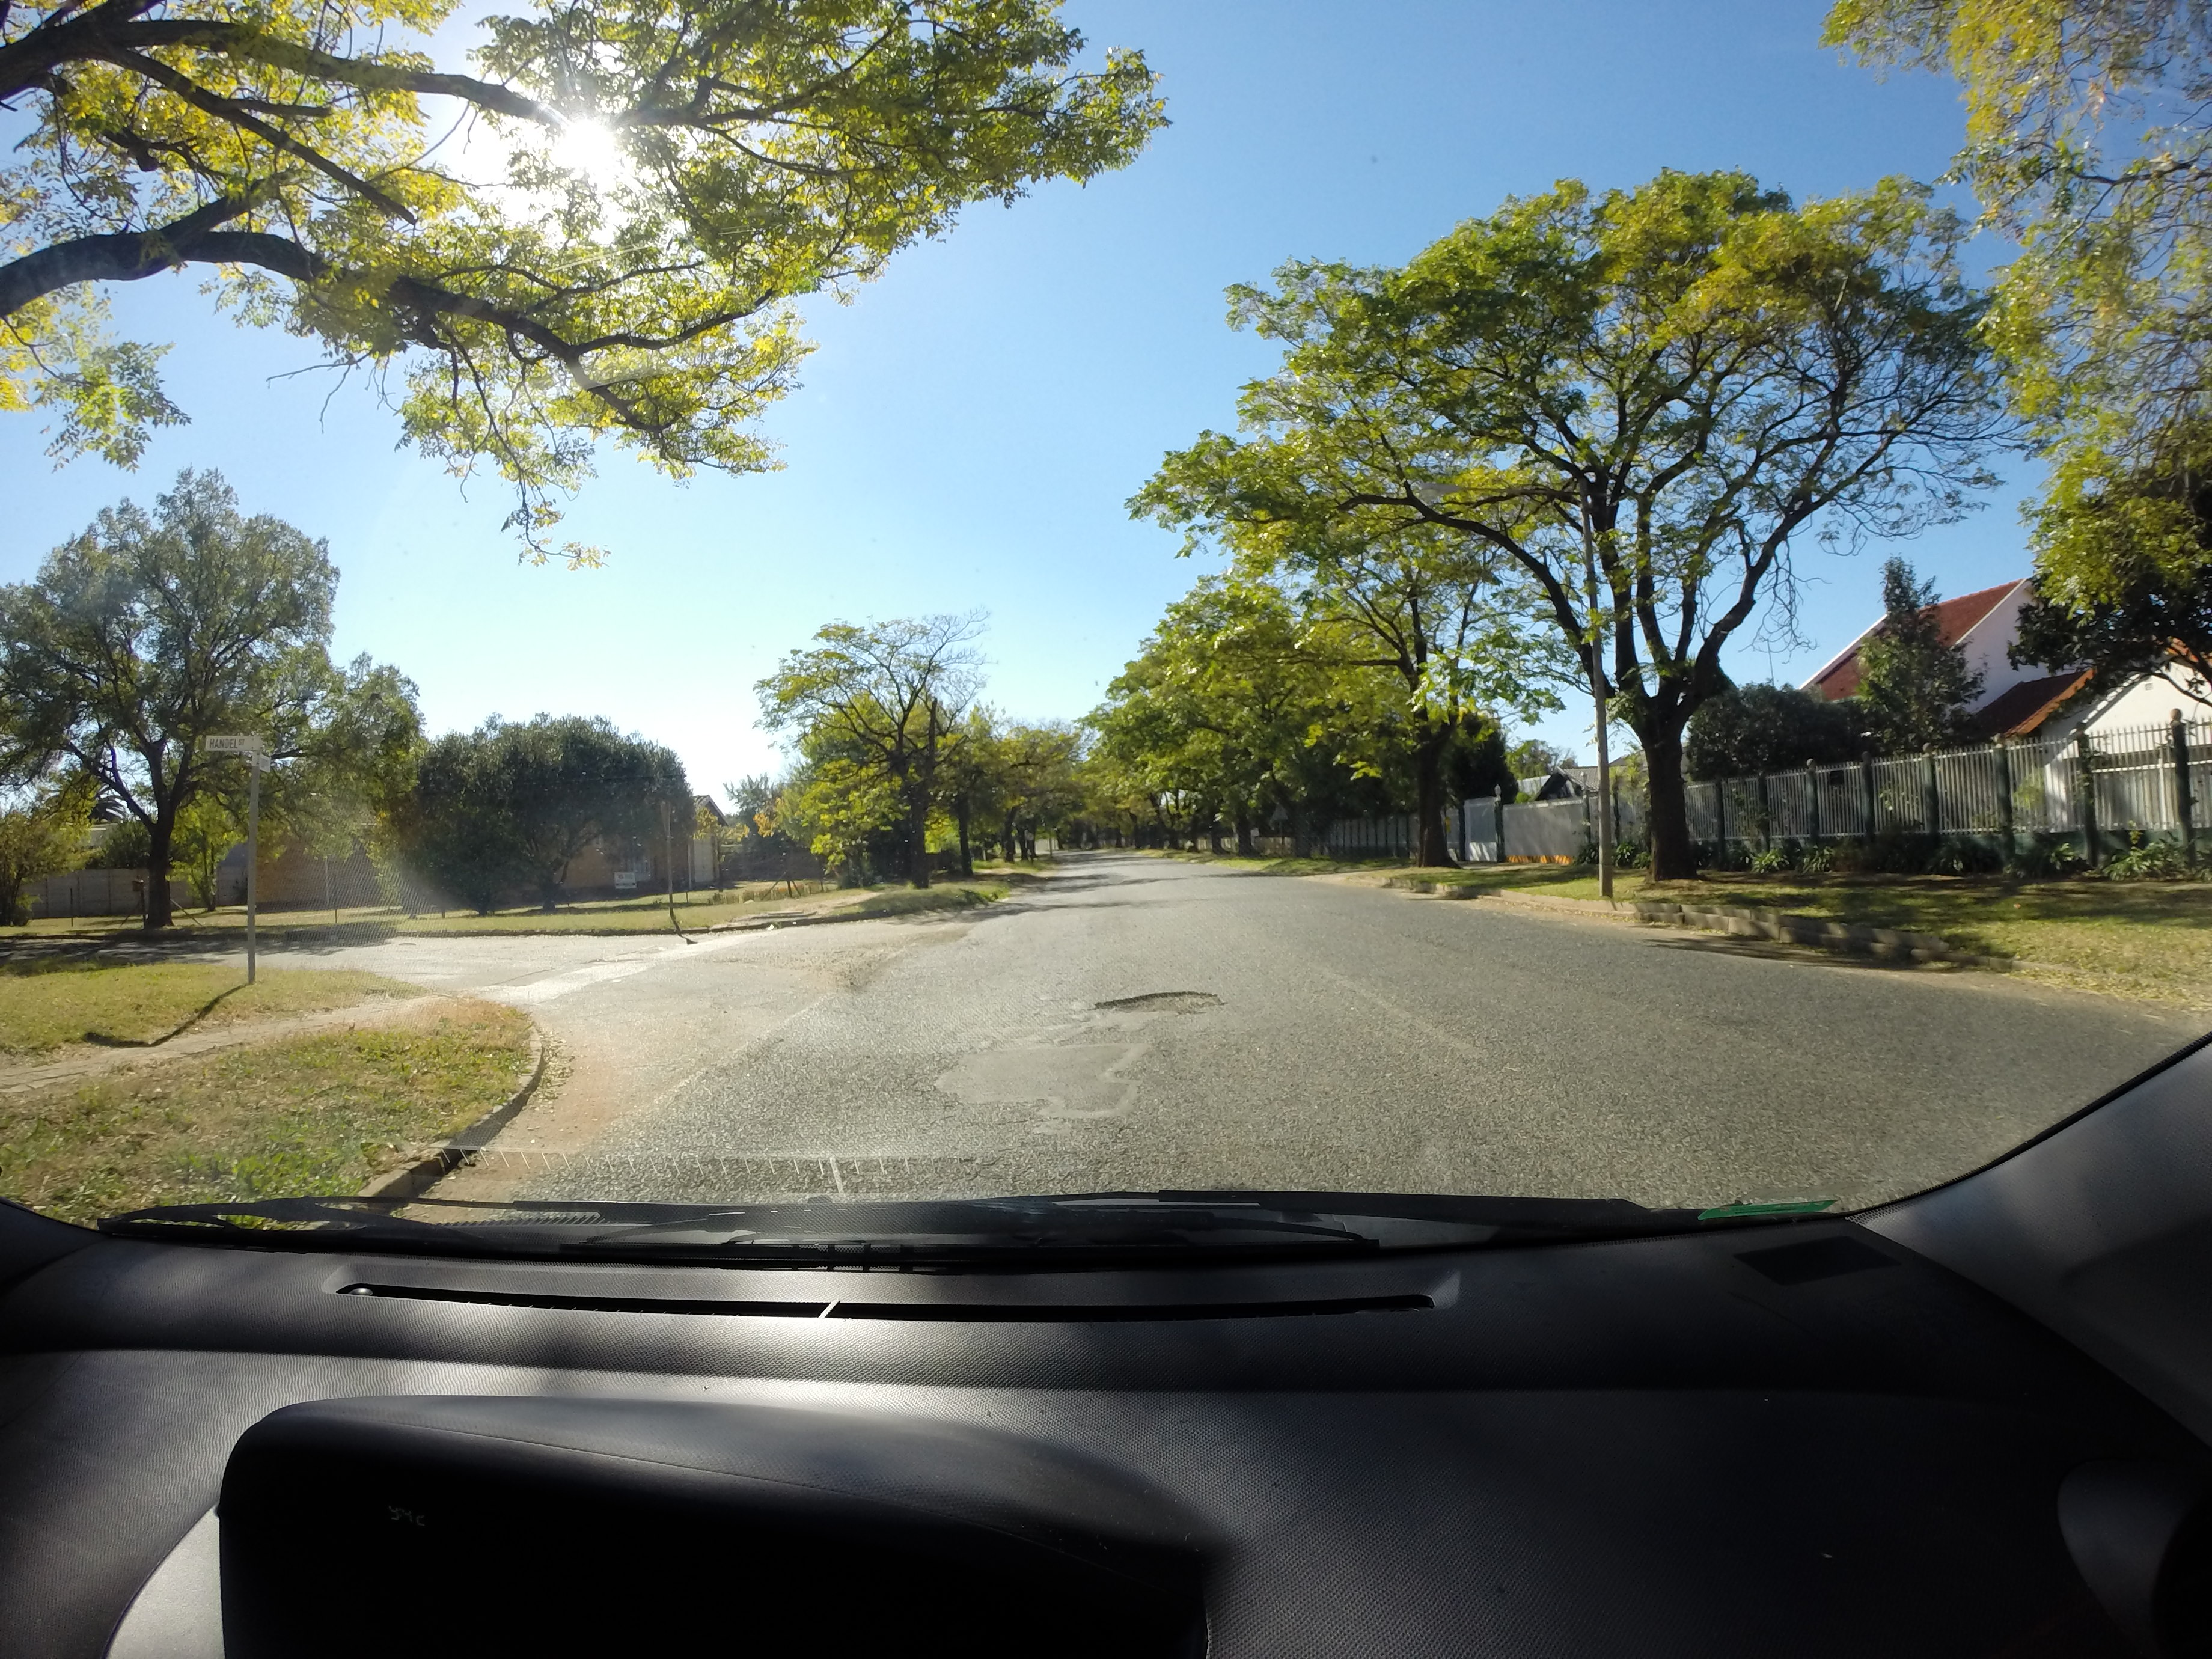pothole: (1097, 972, 1214, 1021)
